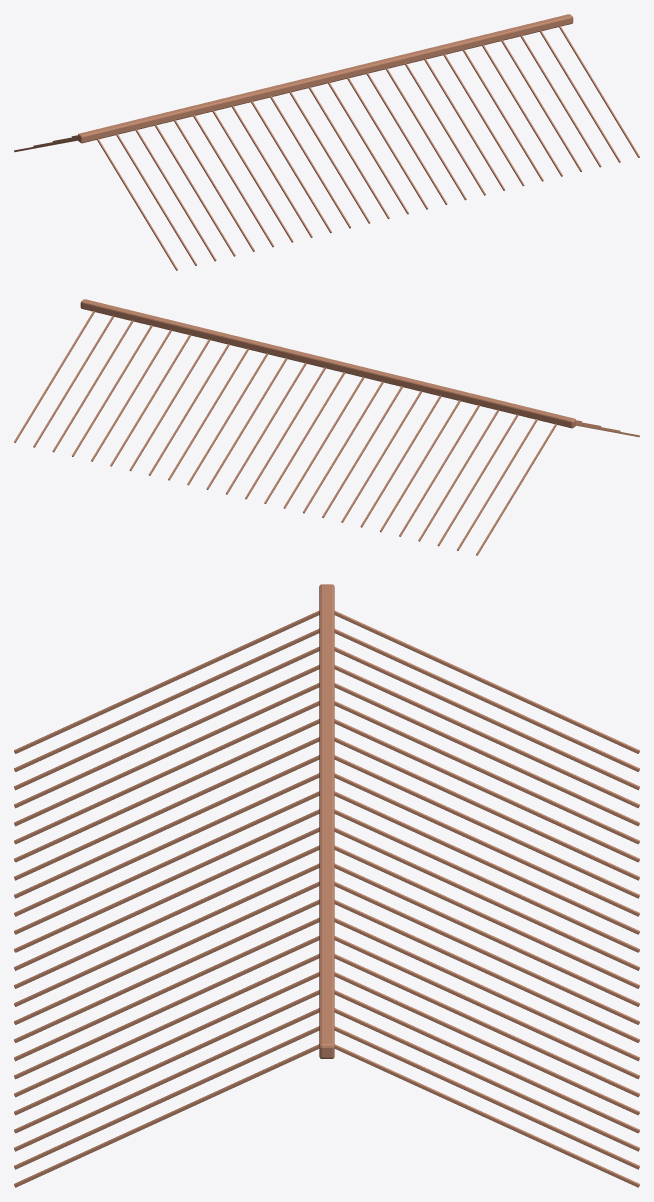
File: SM_RoofSeams.fbx
3 views of the same model, one above another, from view 1: azimuth 30°, elevation 25°; view 2: azimuth 150°, elevation 25°; view 3: azimuth 270°, elevation 25° (orthographic). The views are drawn at different scales.
Visible parts, largest first — view 1: SM_RoofSeams; view 2: SM_RoofSeams; view 3: SM_RoofSeams.
Boxes of the visible parts, x1,y1,x2,y2 form: SM_RoofSeams: [14, 14, 639, 270]; SM_RoofSeams: [14, 299, 639, 555]; SM_RoofSeams: [14, 584, 639, 1187].
Size of the model in its own units: 1330 by 761 by 208.
